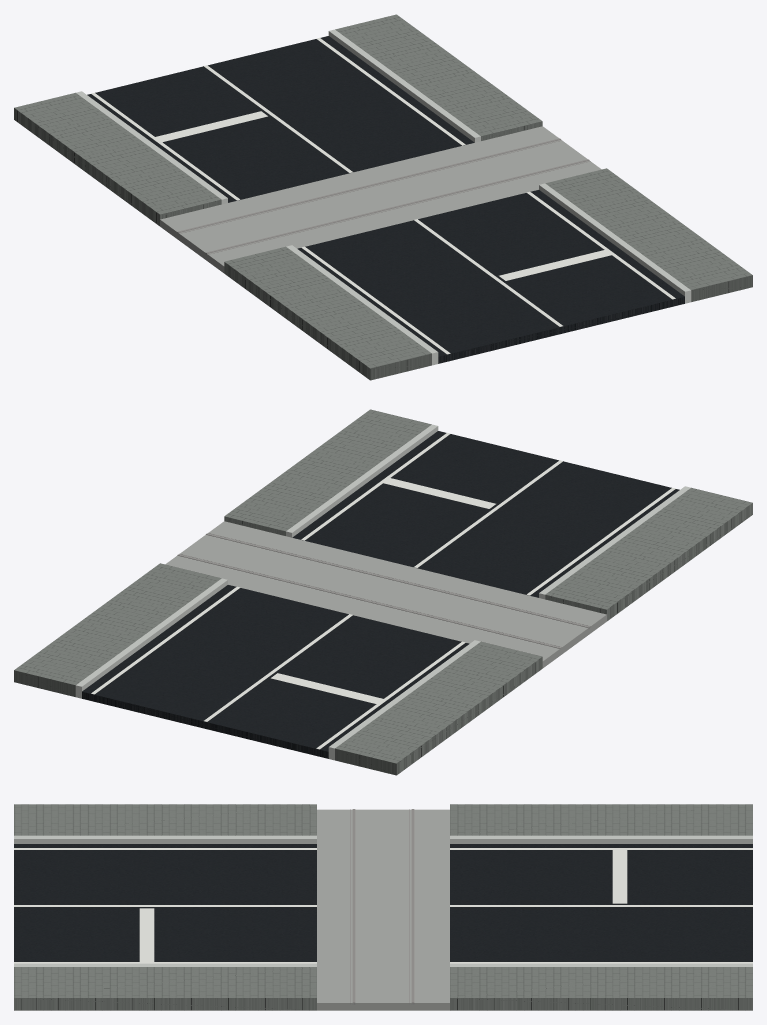
Rendered from RK2_Road_RailCrossing_20m.fbx.
The picture shows the model from 3 angles, top to bottom: view 1: azimuth 30°, elevation 25°; view 2: azimuth 150°, elevation 25°; view 3: azimuth 270°, elevation 25°; orthographic projection. The views are drawn at different scales.
Parts seen in each view (by area): view 1: COL_Asphalt.004, COL_Paving.004, COL_Deck, Markings_White.004, COL_Concrete.004, Curb_Concrete.004, Rails_Steel; view 2: COL_Asphalt.004, COL_Paving.004, COL_Deck, Markings_White.004, COL_Concrete.004, Curb_Concrete.004, Rails_Steel; view 3: COL_Asphalt.004, COL_Paving.004, COL_Deck, COL_Concrete.004, Markings_White.004, Curb_Concrete.004, Rails_Steel.
Part boxes in pixels (x1,y1,x2,y2): COL_Asphalt.004: (87, 36, 684, 363); COL_Paving.004: (14, 14, 752, 380); COL_Deck: (160, 126, 601, 273); Markings_White.004: (91, 37, 675, 354); COL_Concrete.004: (77, 29, 691, 365); Curb_Concrete.004: (76, 30, 690, 352); Rails_Steel: (177, 138, 590, 255); COL_Asphalt.004: (82, 431, 679, 758); COL_Paving.004: (14, 409, 752, 775); COL_Deck: (165, 521, 606, 668); Markings_White.004: (91, 432, 675, 749); COL_Concrete.004: (75, 424, 690, 760); Curb_Concrete.004: (82, 426, 685, 748); Rails_Steel: (177, 533, 590, 648); COL_Asphalt.004: (14, 844, 752, 961); COL_Paving.004: (14, 804, 752, 1010); COL_Deck: (317, 809, 449, 1010); COL_Concrete.004: (14, 835, 752, 966); Markings_White.004: (14, 848, 752, 963); Curb_Concrete.004: (14, 835, 752, 966); Rails_Steel: (350, 809, 414, 1004).
Bounding box in the file's own units: 1240 × 37 × 2000.
